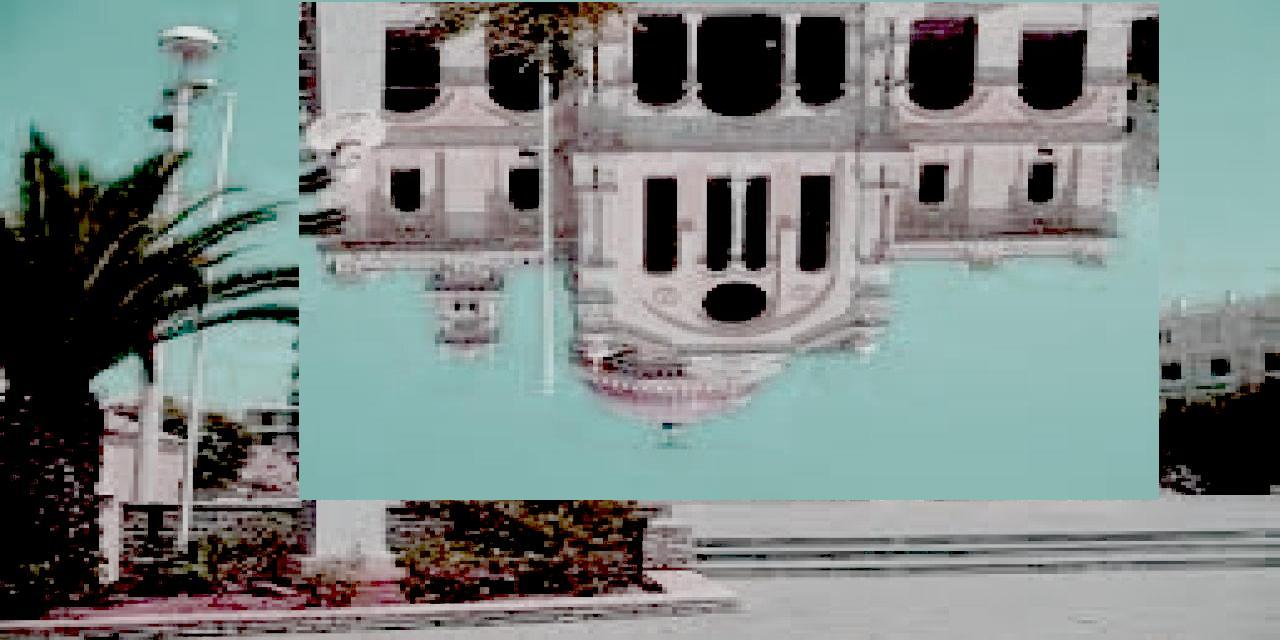Agios Minas: (300, 3, 1160, 501)
